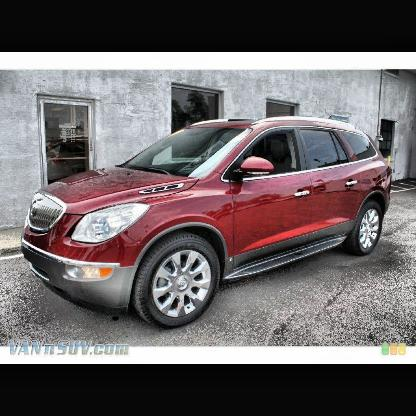Buick Enclave SUV 2012: (23, 117, 391, 327)
